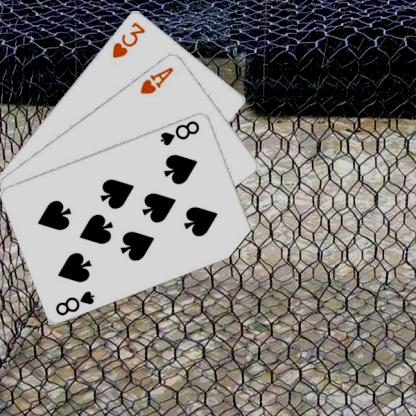3H: (109, 19, 147, 59)
8S: (53, 288, 96, 317), (157, 118, 201, 146)
AH: (137, 63, 175, 96)
